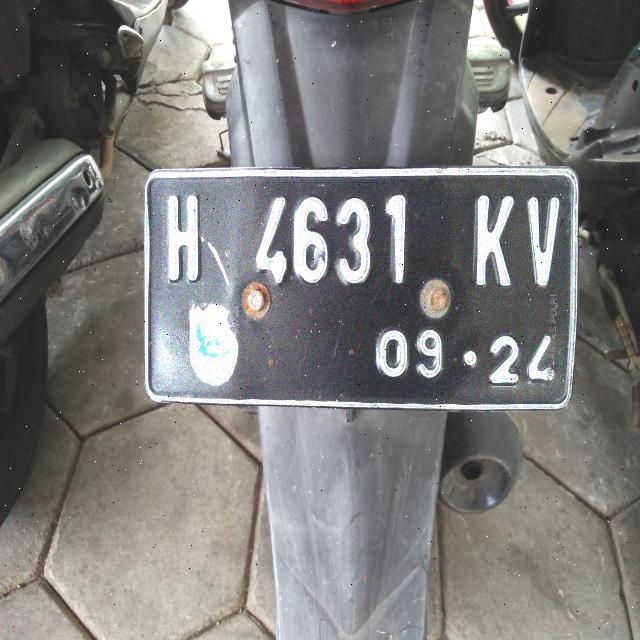plate: (145, 168, 576, 408)
